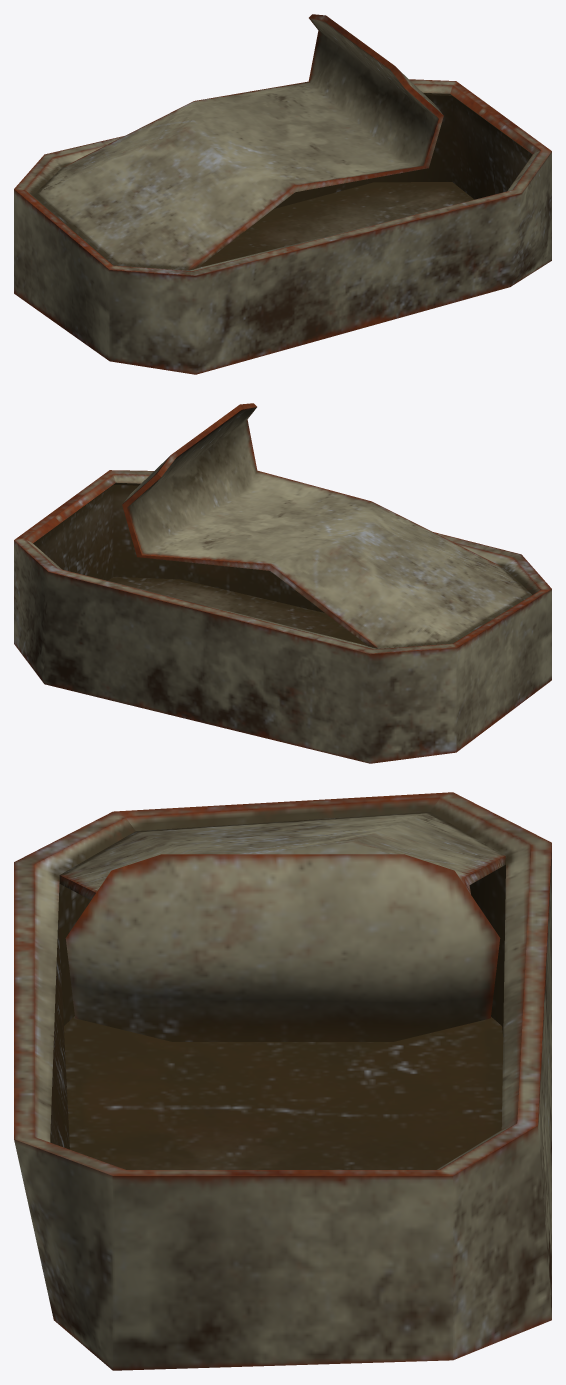
File: fish_can.dae
3 renders of one model, top to bottom at view 1: azimuth 30°, elevation 25°; view 2: azimuth 150°, elevation 25°; view 3: azimuth 270°, elevation 25°, orthographic. The views are drawn at different scales.
Visible parts, largest first — view 1: Can_02_GEO; view 2: Can_02_GEO; view 3: Can_02_GEO.
Boxes of the visible parts, x1,y1,x2,y2 form: Can_02_GEO: (14, 14, 551, 374); Can_02_GEO: (14, 403, 551, 763); Can_02_GEO: (14, 792, 551, 1370).
Size of the model in its own units: 0.1064 by 0.063 by 0.0506.
1 material, 1 textured.
